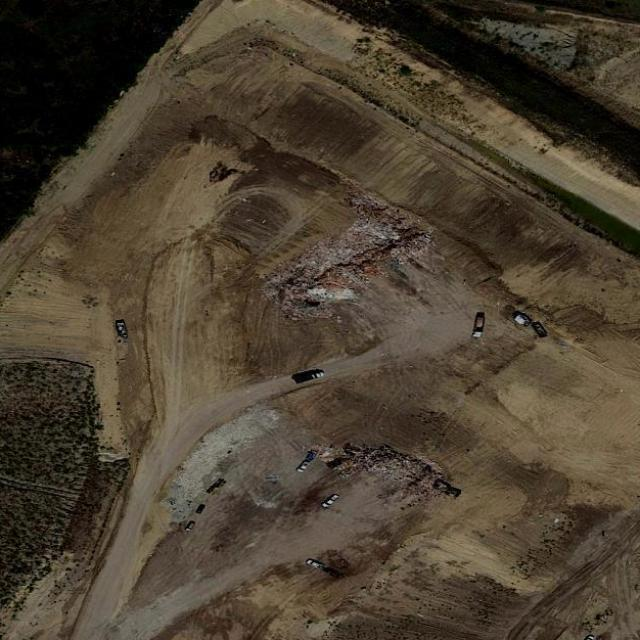dump_site: (233, 187, 445, 330), (316, 434, 474, 506)
